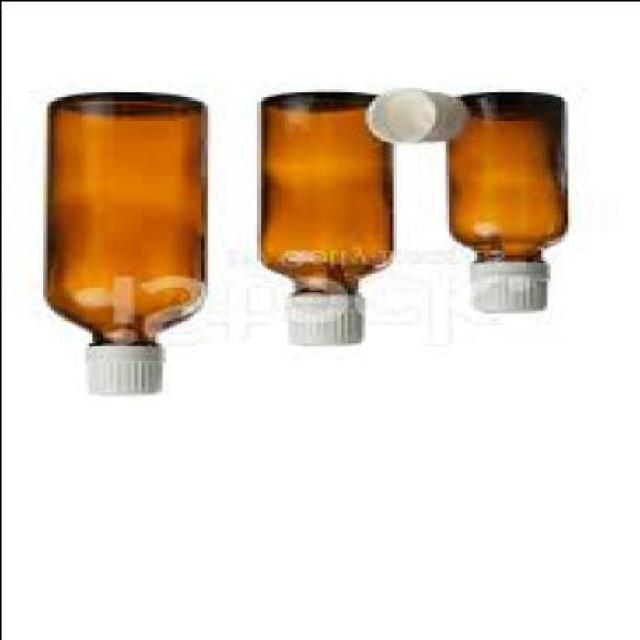glass: (39, 92, 203, 345), (260, 91, 389, 294), (444, 92, 564, 263)
plastic: (357, 92, 461, 145), (77, 345, 157, 397), (466, 263, 543, 315), (286, 294, 357, 349)
